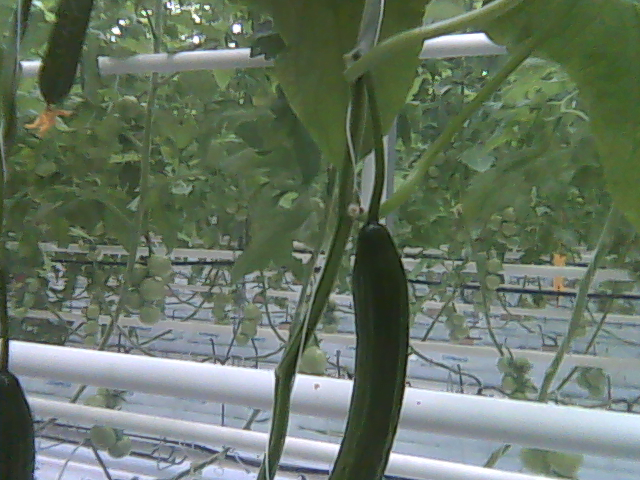concombre: (325, 202, 413, 480), (35, 2, 98, 132)
